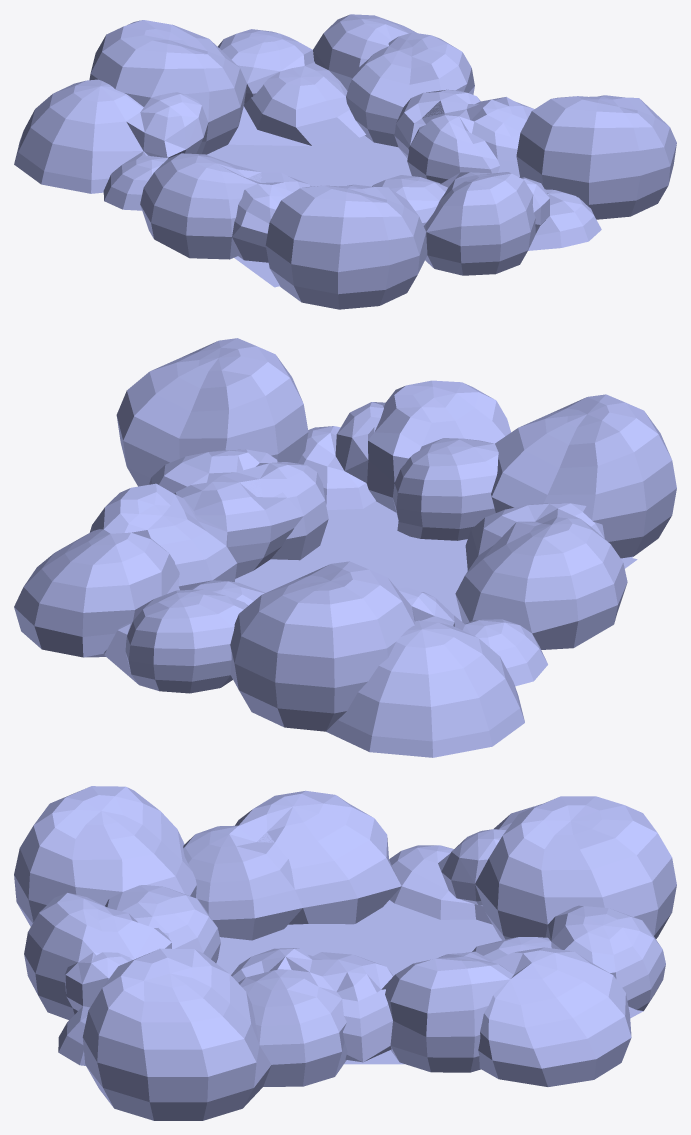
Rendered from 1avion-scene.glb.
The picture shows the model from 3 angles, top to bottom: view 1: azimuth 30°, elevation 25°; view 2: azimuth 150°, elevation 25°; view 3: azimuth 270°, elevation 25°; orthographic projection. The views are drawn at different scales.
Visible parts, largest first — view 1: Sphere.002; view 2: Sphere.002; view 3: Sphere.002.
Boxes of the visible parts, x1,y1,x2,y2 form: Sphere.002: (14,14,676,309); Sphere.002: (14,338,676,757); Sphere.002: (14,786,676,1120).
Bounding box in the file's own units: 8.01 × 1.83 × 8.11.
